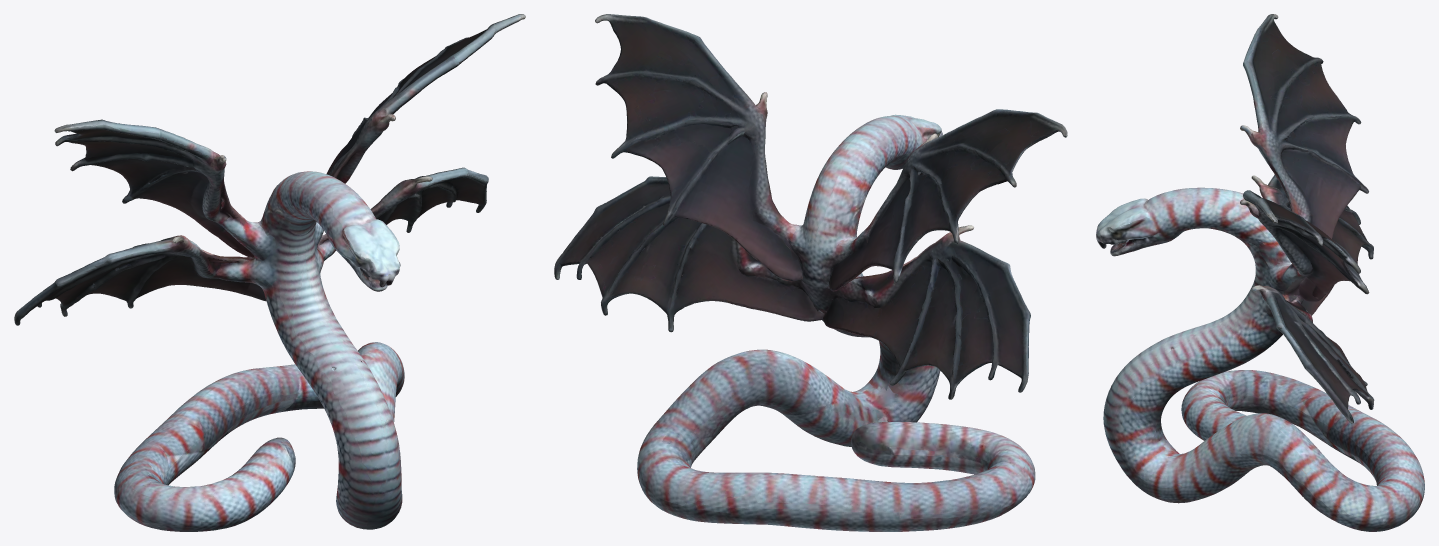
The model's file is mingshe.glb.
3 views of the same model, side by side, from view 1: azimuth 30°, elevation 25°; view 2: azimuth 150°, elevation 25°; view 3: azimuth 270°, elevation 25° (orthographic). The views are drawn at different scales.
Parts seen in each view (by area): view 1: geometry_0; view 2: geometry_0; view 3: geometry_0.
Part boxes in pixels (x1=…): geometry_0: x1=14, y1=14, x2=525, y2=531; geometry_0: x1=554, y1=14, x2=1067, y2=531; geometry_0: x1=1096, y1=14, x2=1424, y2=531.
Bounding box in the file's own units: 5.93 × 5.05 × 4.
Materials: 1 (1 with a texture image).
